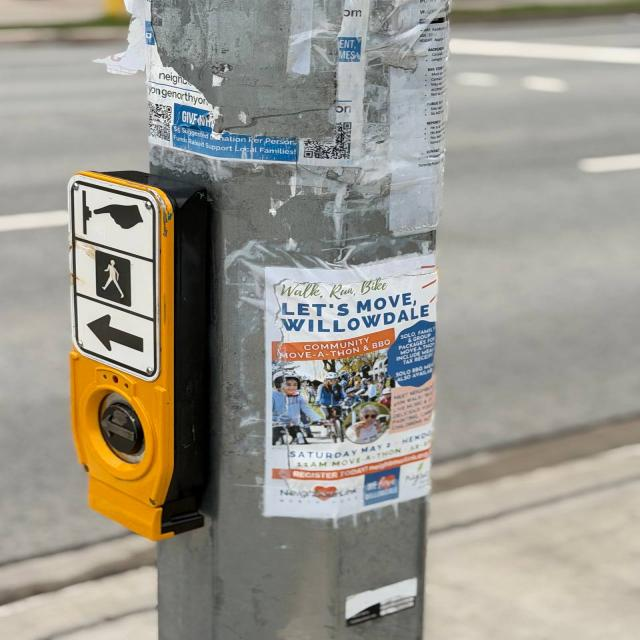Electrical Pole: (62, 0, 463, 640)
